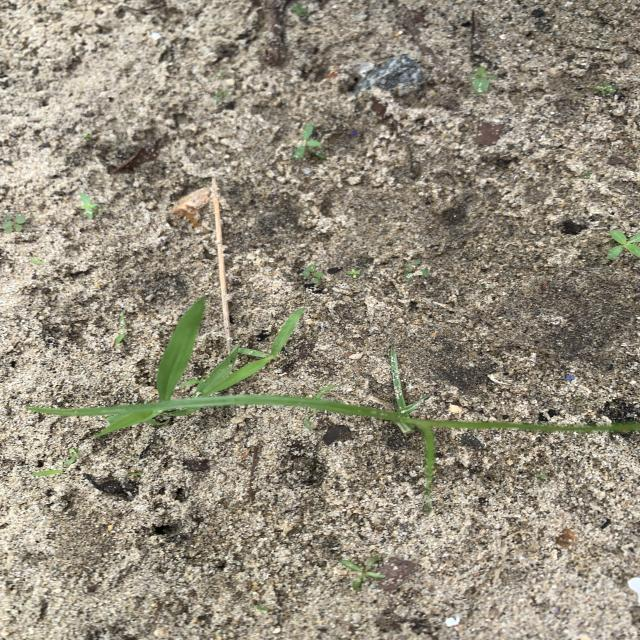weed: (143, 349, 640, 512), (195, 308, 303, 396), (158, 300, 203, 399), (341, 555, 415, 590), (293, 124, 325, 159), (302, 264, 359, 283), (608, 229, 639, 259), (470, 64, 498, 94), (80, 192, 102, 219), (2, 214, 26, 232), (595, 85, 615, 95), (293, 5, 306, 16)
